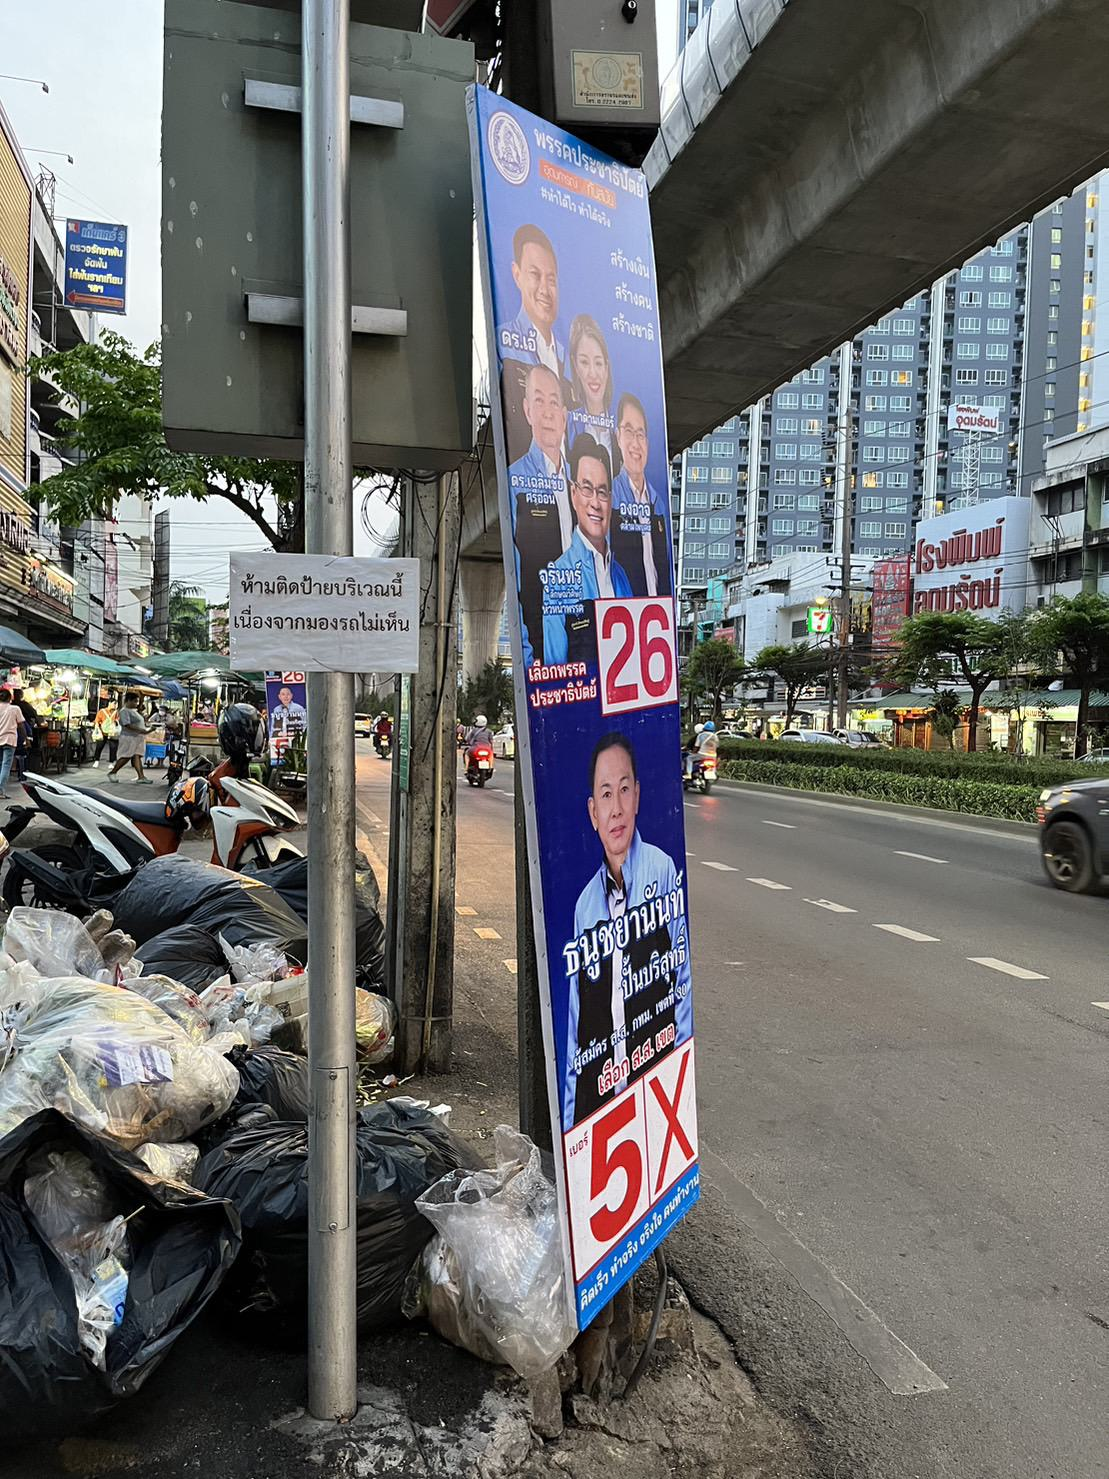Banner: (467, 89, 702, 1333)
